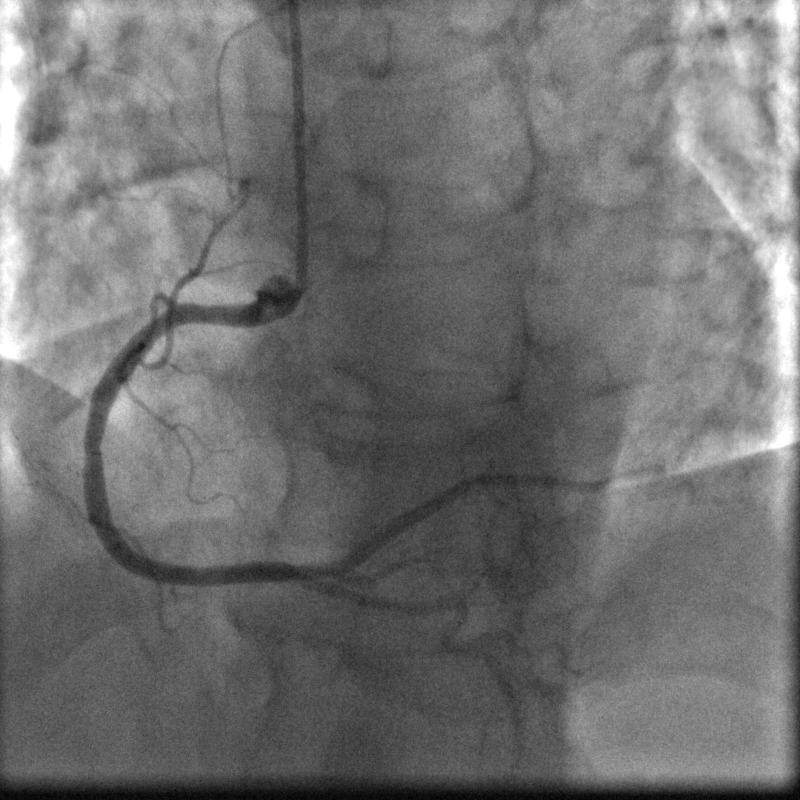Stenosis: (78, 422, 107, 475)
